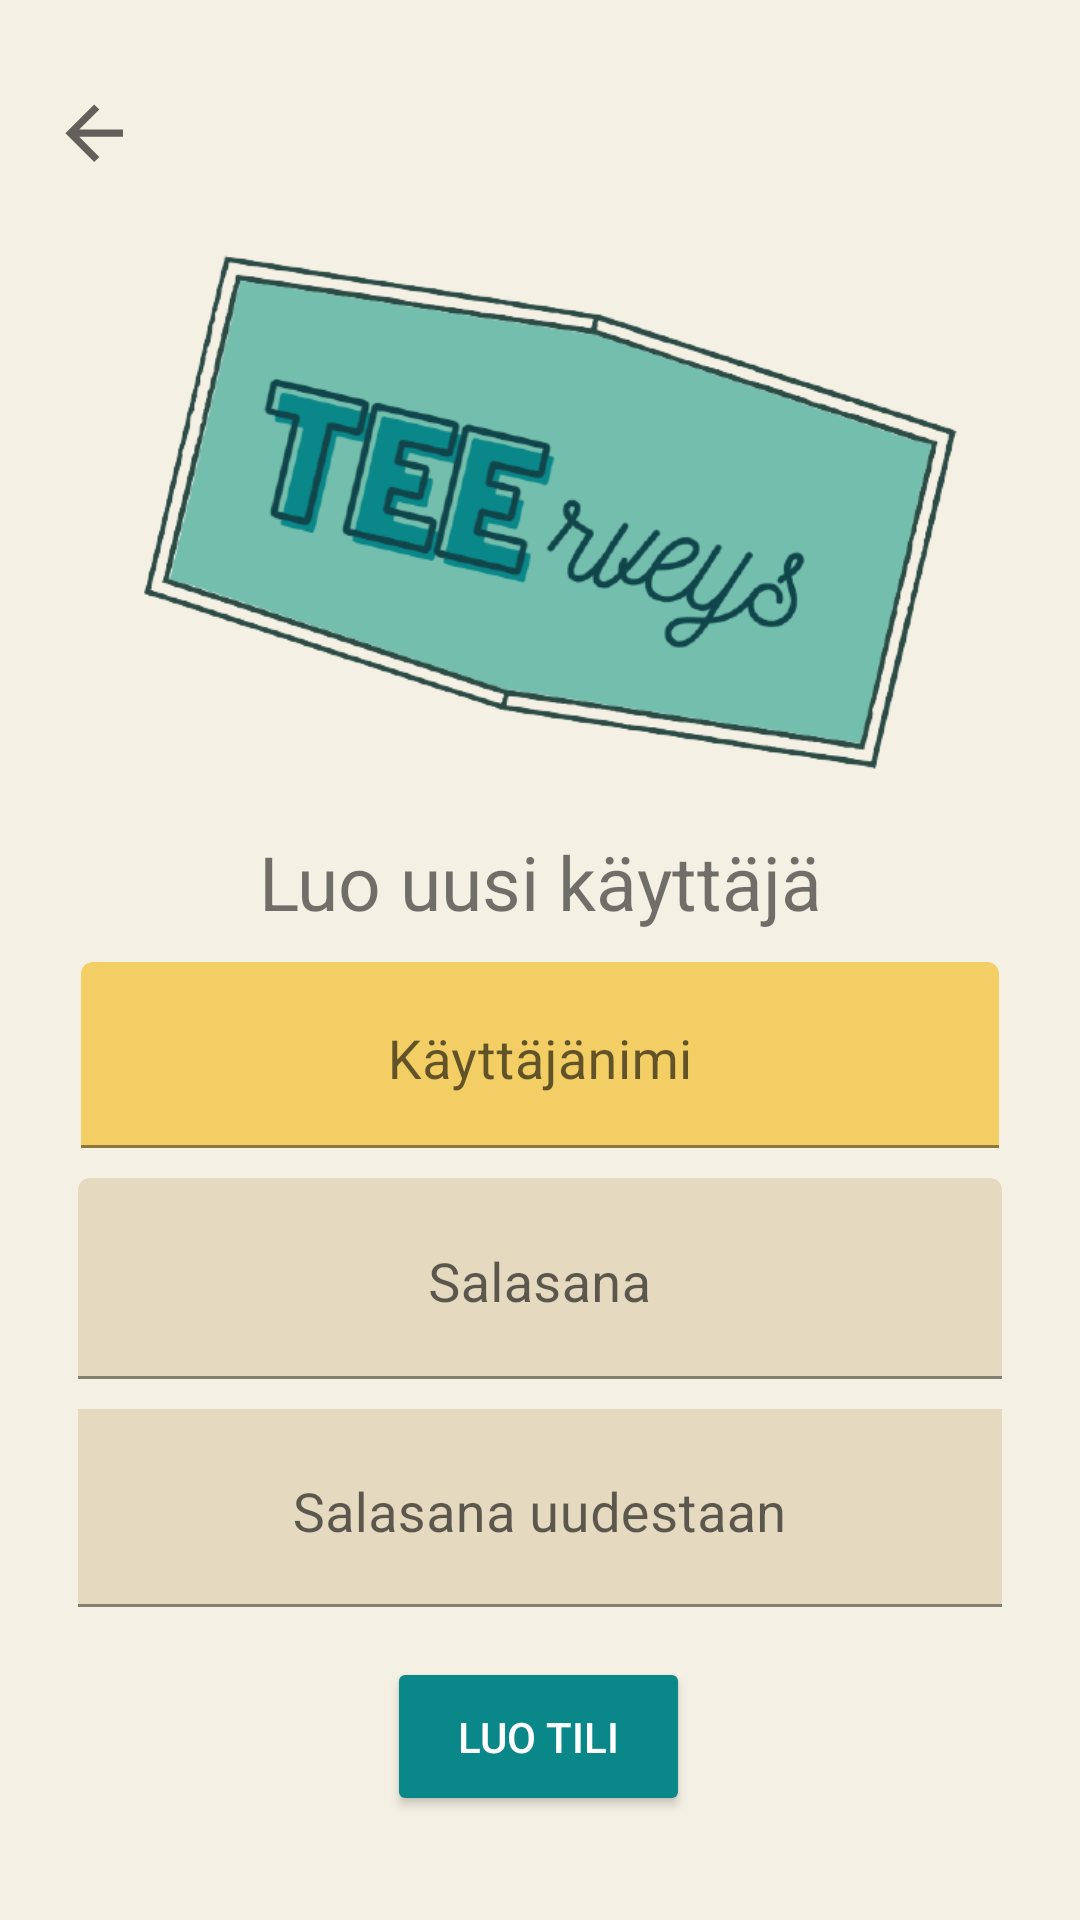

Where to tap for icons on this 1080x1920 app screen, as [x,y]:
arrow back: [94,133]
